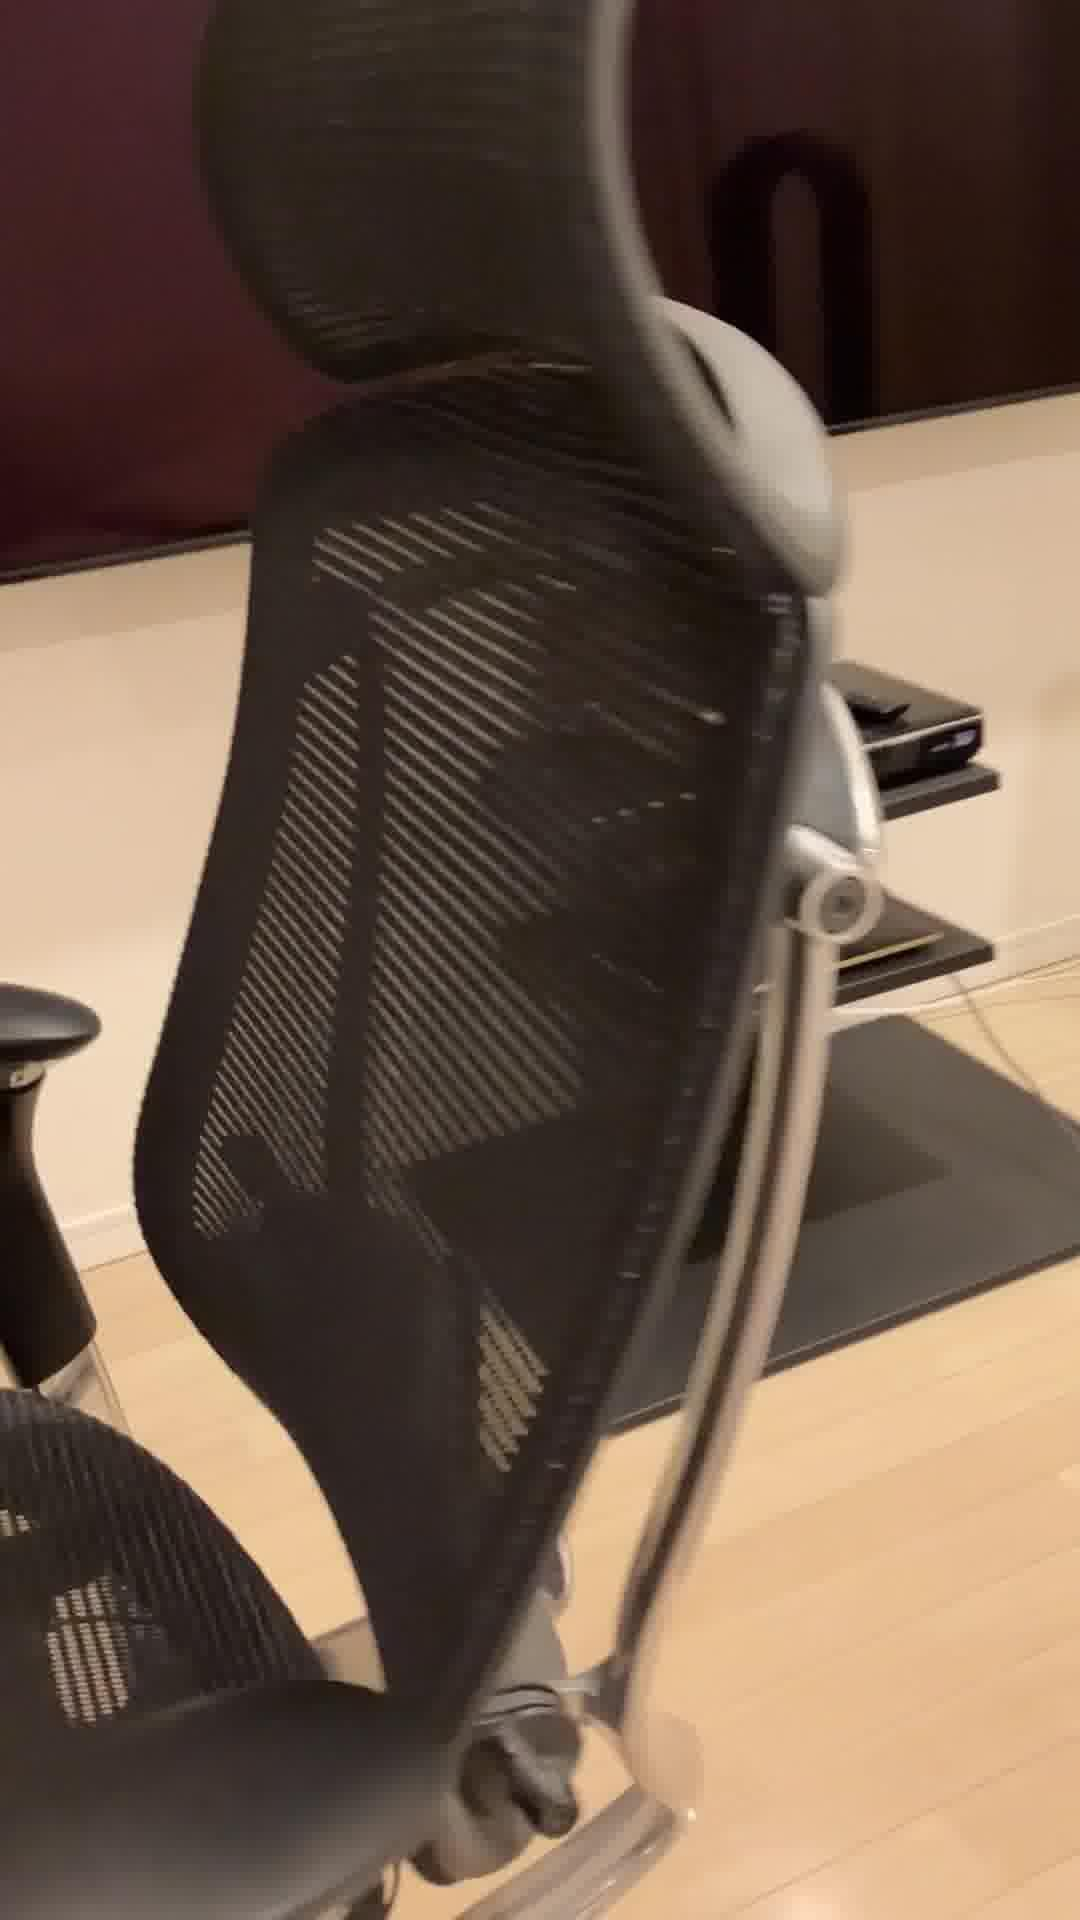okamura-contessa: (0, 0, 886, 1920)
